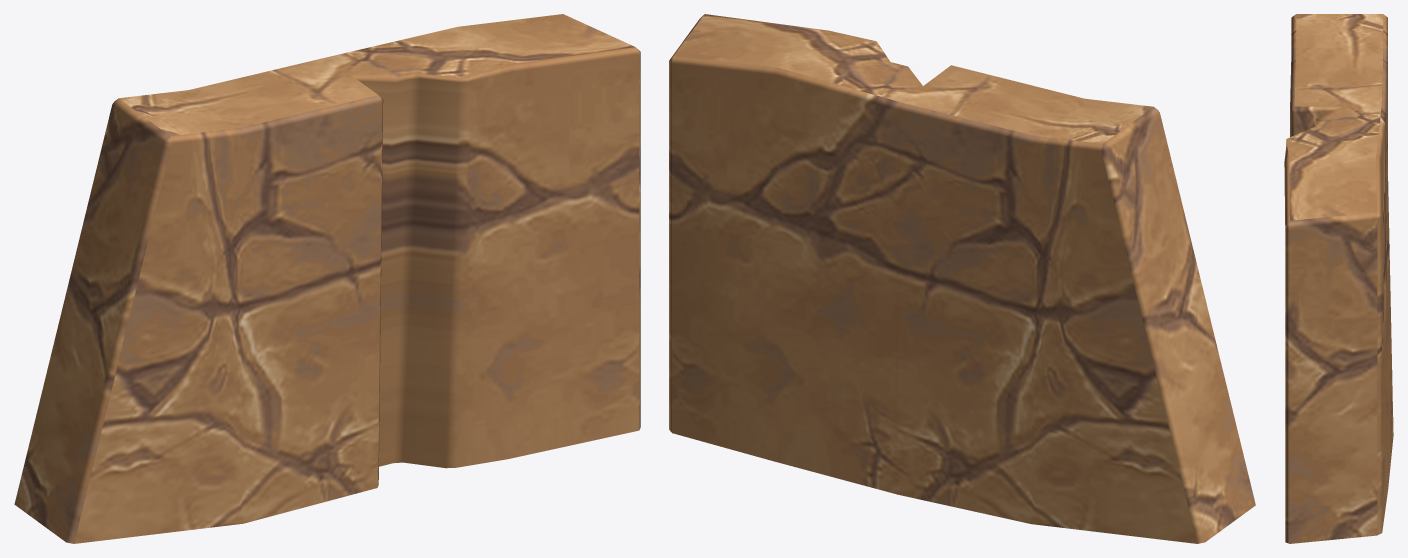
The model's file is templebrick2.fbx.
The picture shows the model from 3 angles, left to right: view 1: azimuth 30°, elevation 25°; view 2: azimuth 150°, elevation 25°; view 3: azimuth 270°, elevation 25°; orthographic projection. The views are drawn at different scales.
Parts seen in each view (by area): view 1: Colonne.003; view 2: Colonne.003; view 3: Colonne.003.
Boxes of the visible parts, x1,y1,x2,y2 form: Colonne.003: (14, 14, 640, 543); Colonne.003: (669, 14, 1255, 543); Colonne.003: (1284, 14, 1393, 543).
Size of the model in its own units: 1145 by 790 by 226.
